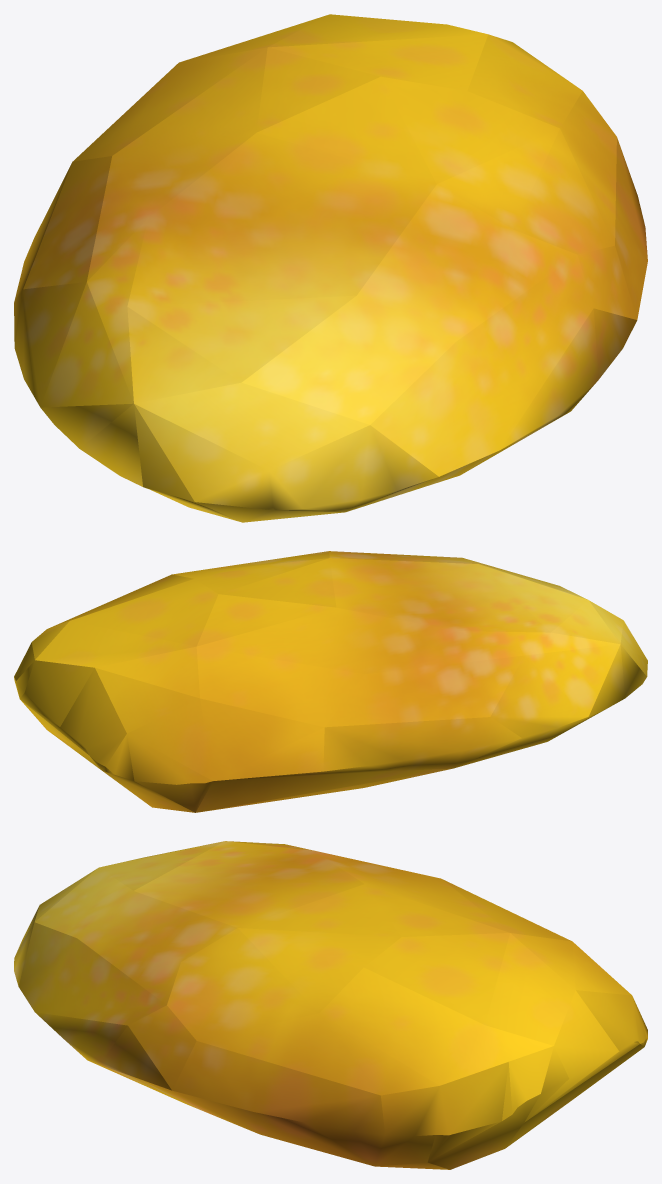
File: WITCH_L_LEG.obj
3 views of the same model, one above another, from view 1: azimuth 30°, elevation 25°; view 2: azimuth 150°, elevation 25°; view 3: azimuth 270°, elevation 25° (orthographic). The views are drawn at different scales.
Visible parts, largest first — view 1: WITCH_L_LEG:Mesh; view 2: WITCH_L_LEG:Mesh; view 3: WITCH_L_LEG:Mesh.
Part boxes in pixels (x1,y1,x2,y2): WITCH_L_LEG:Mesh: (14,14,647,522); WITCH_L_LEG:Mesh: (14,551,647,812); WITCH_L_LEG:Mesh: (14,841,647,1169).
Size of the model in its own units: 0.369 by 0.1312 by 0.3891.
Materials: 1 (1 with a texture image).
